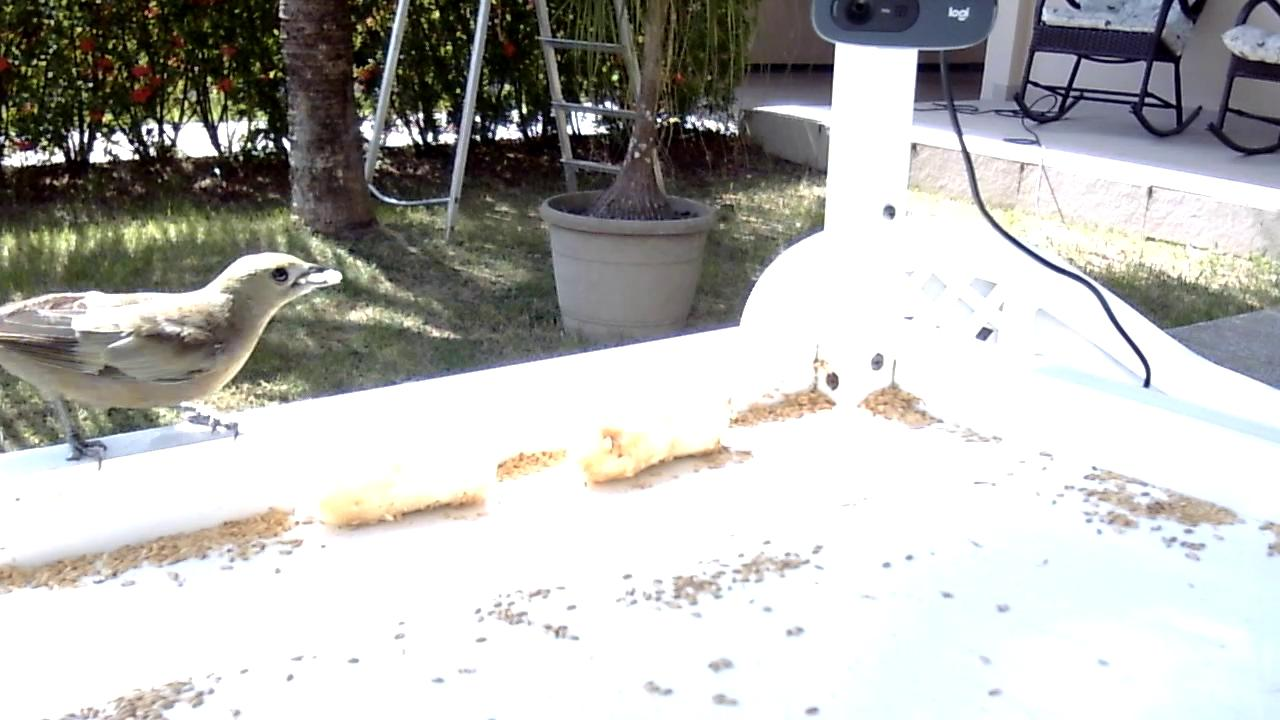sanhaco_do_coqueiro: (1, 250, 346, 473)
